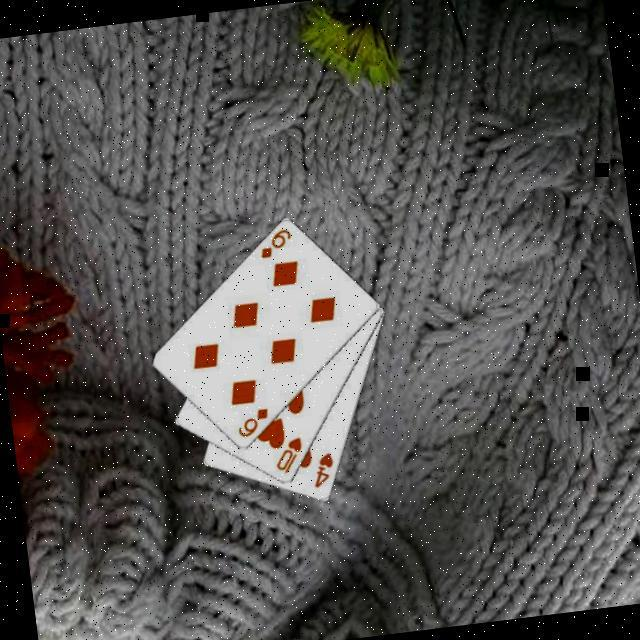10H: (270, 434, 309, 478)
4H: (309, 450, 340, 492)
6D: (233, 405, 275, 441), (255, 226, 297, 262)
